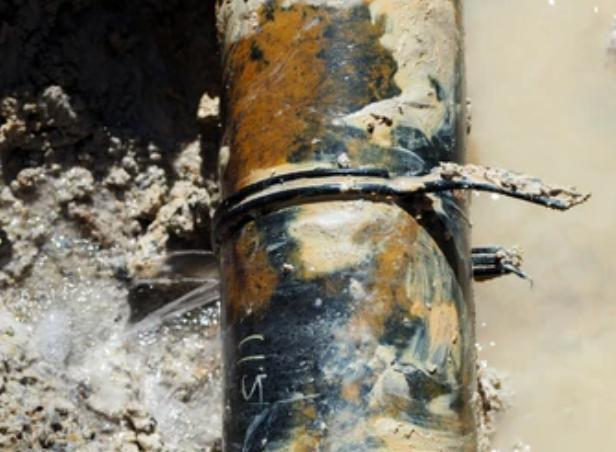pipe burst: (106, 275, 222, 351)
water accumulation: (460, 0, 616, 452), (0, 189, 226, 452)
